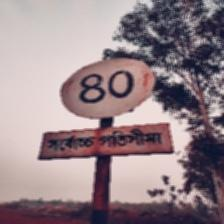Speed-limit: (40, 55, 171, 160)
